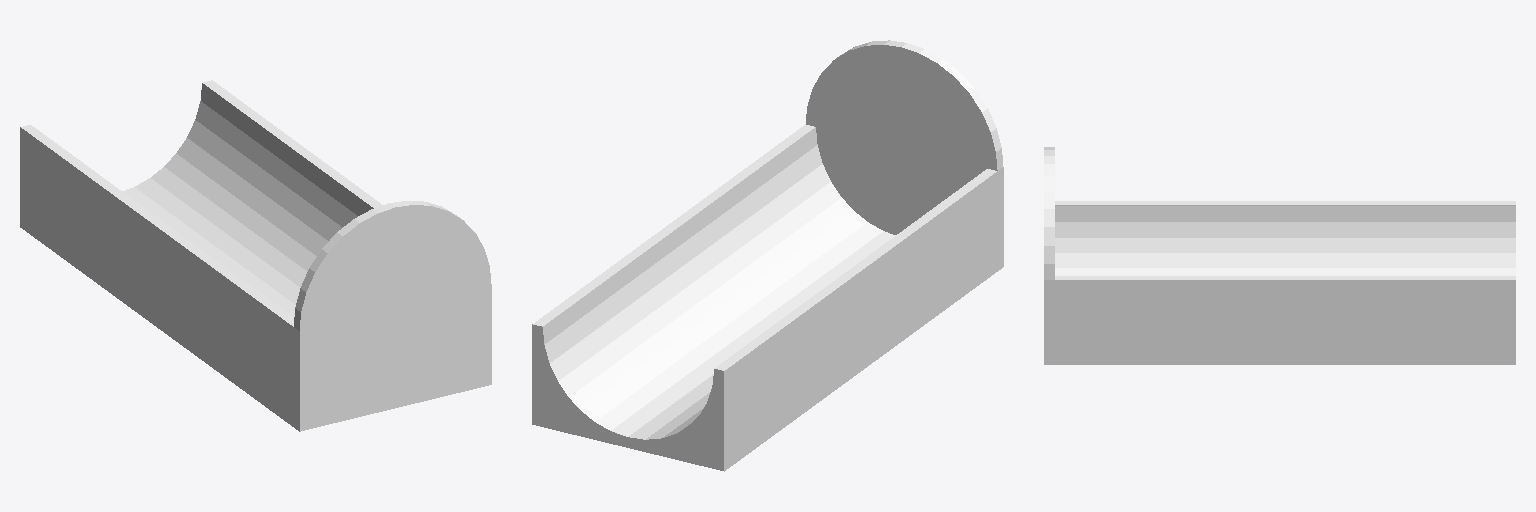
The robot description file, URDF, robot "quarter_counting_tube":
<?xml version="1.0" ?>
<robot name="quarter_counting_tube">
  <link name="quarter_counting_tube">
    <contact>
      <lateral_friction value="1.0"/>
      <rolling_friction value="1.0"/>
      <inertia_scaling value="3.0"/>
      <contact_cdm value="0.0"/>
      <contact_erp value="1.0"/>
    </contact>
    <inertial>
      <origin rpy="0 0 0" xyz="0 0 0"/>
      <mass value="1.0"/>
      <inertia ixx="0" ixy="0" ixz="0" iyy="0" iyz="0" izz="0"/>
    </inertial>
    <visual>
      <origin rpy="0 0 0" xyz="0 0 0"/>
      <geometry>
        <mesh filename="quarter_counting_tube_vis.obj" scale="1.0 1.0 1.0"/>
      </geometry>
      <material name="blockmat">
        <color rgba="1.0 1.0 1.0 1.0"/>
      </material>
    </visual>
    <collision>
      <origin rpy="0 0 0" xyz="0 0 0"/>
      <geometry>
        <mesh filename="quarter_counting_tube_col.obj" scale="1.0 1.0 1.0"/>
      </geometry>
    </collision>
  </link>
</robot>

--- Facts derived from the render (not from the file) ---
Views: 3 orthographic renders of the robot side by side, from view 1: azimuth 30°, elevation 25°; view 2: azimuth 150°, elevation 25°; view 3: azimuth 270°, elevation 25°.
Model quarter_counting_tube with 1 links and 0 joints (none), rooted at quarter_counting_tube, posed all joints at 0.
Visible links, largest first — view 1: quarter_counting_tube; view 2: quarter_counting_tube; view 3: quarter_counting_tube.
Boxes of the visible links, bbox=[...] form: quarter_counting_tube: bbox=[20, 80, 491, 431]; quarter_counting_tube: bbox=[532, 40, 1003, 471]; quarter_counting_tube: bbox=[1044, 147, 1515, 364].
Size in the robot's own frame: 0.028 by 0.0705 by 0.028 metres.
1 mesh visuals loaded from 1 distinct referenced files (1 OBJ).
